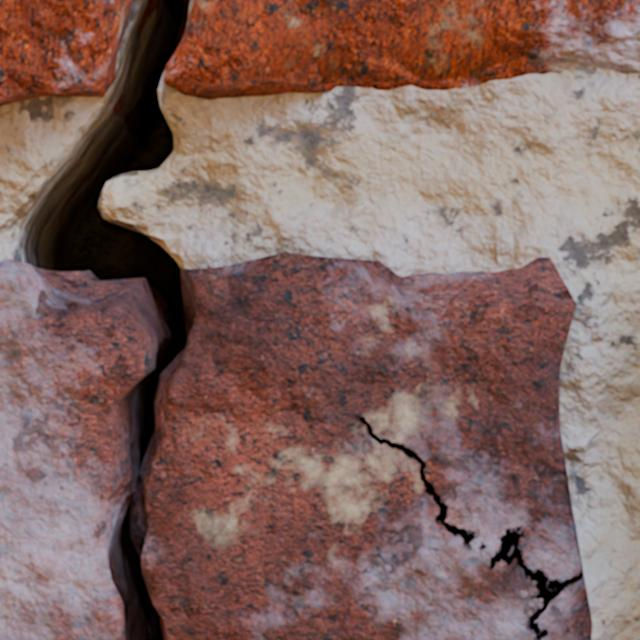broken_brick: (141, 253, 592, 639), (0, 259, 150, 639), (164, 0, 639, 99), (0, 0, 124, 105), (184, 269, 193, 272)
crack: (8, 0, 204, 639), (353, 414, 474, 551), (481, 527, 582, 639), (573, 525, 579, 555), (569, 503, 573, 523), (480, 544, 485, 549), (568, 489, 569, 501)
